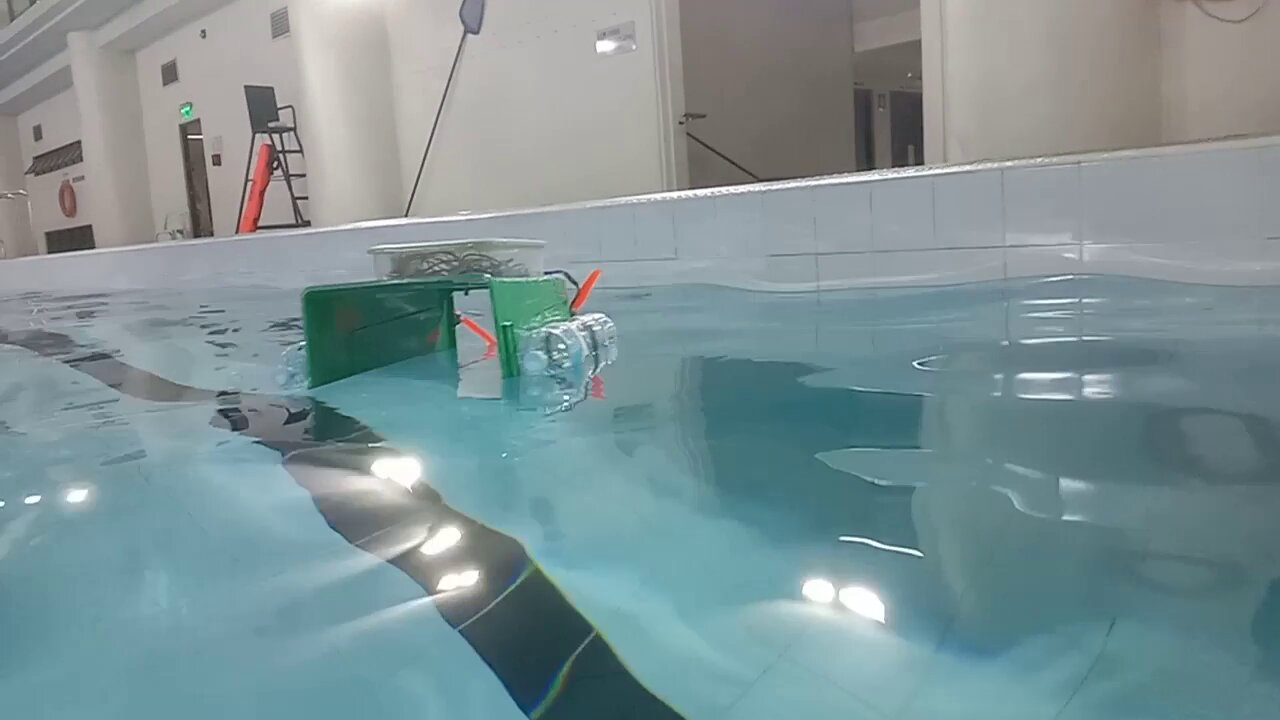drone: (274, 236, 620, 391)
